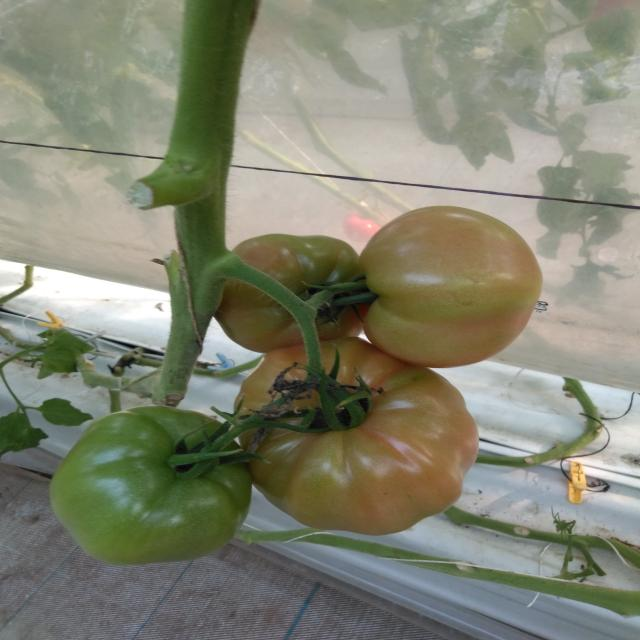yesil: (45, 397, 275, 552)
